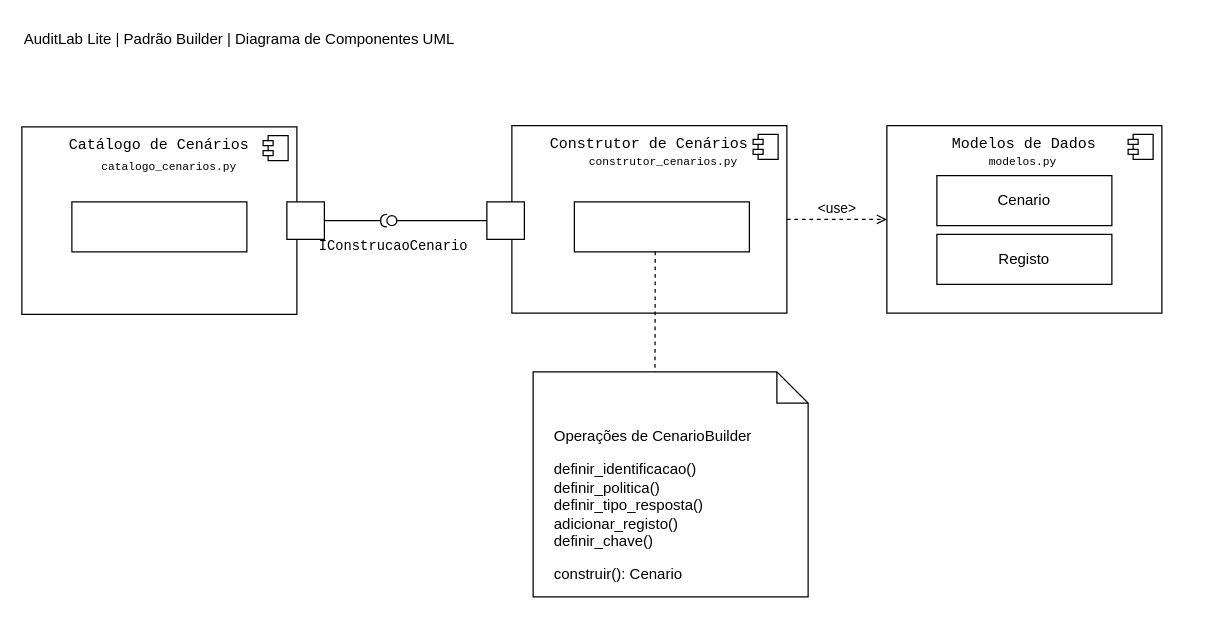
The diagram is 1221 pixels wide and 620 high, and some of its shapes have lost their labels. Each missing label, with the centre of its shape:
CenarioBuilder: (x=661, y=226)
criar_cenario(): (x=159, y=226)
